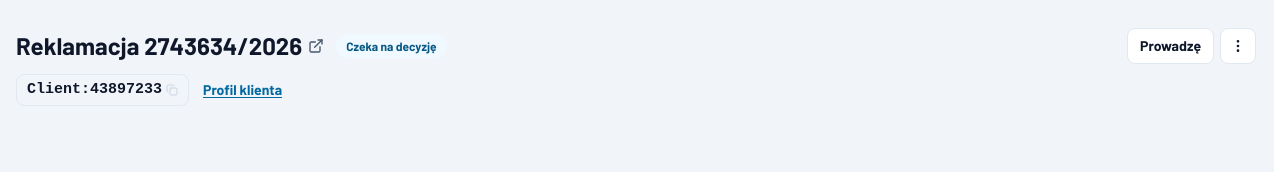
it: Menu „⋮”: rzadkie czynności na jawne kliknięcie › niesie odświeżenie z Allegro; nic nie woła się samo
Click the button named "Więcej działań" at (1238, 46), box [1220, 28, 1256, 64]
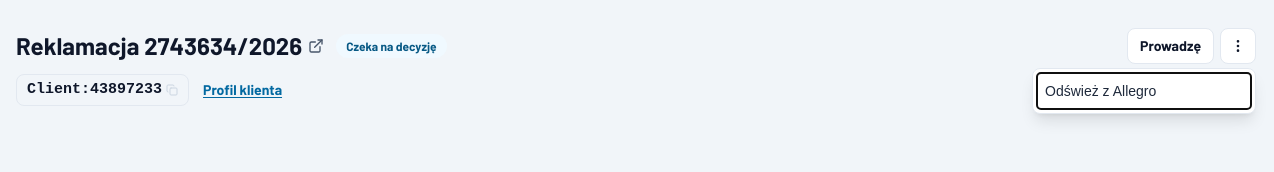
Click the menu item "Odśwież z Allegro" at (1144, 91), box [1037, 73, 1251, 109]
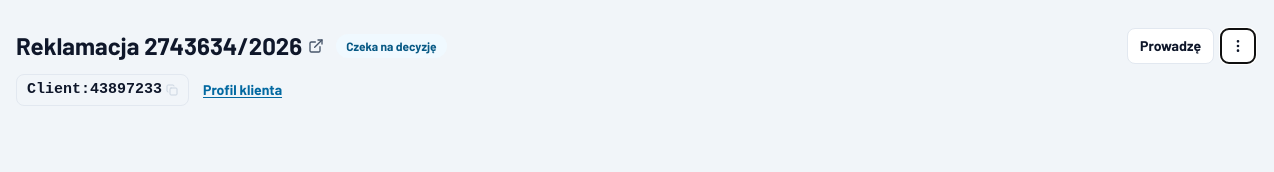
Check: the menu is gone
